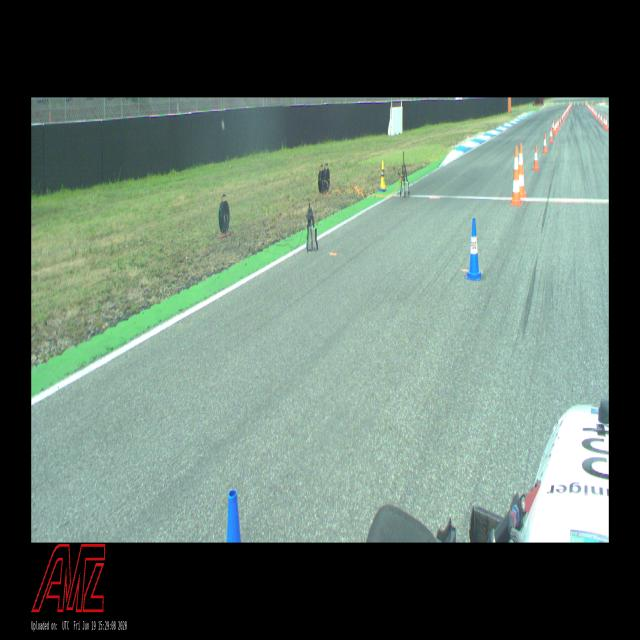blue_cone: (217, 488, 253, 542), (466, 220, 482, 280)
large_orange_cone: (510, 147, 522, 205), (518, 142, 526, 197)
orange_cone: (532, 146, 539, 170), (542, 134, 547, 154), (548, 128, 552, 143), (604, 118, 608, 128), (603, 115, 606, 128), (552, 120, 554, 133), (556, 118, 558, 131), (554, 122, 556, 134), (557, 117, 559, 129), (600, 114, 602, 124), (598, 111, 600, 121)
yellow_cone: (380, 160, 386, 189)
